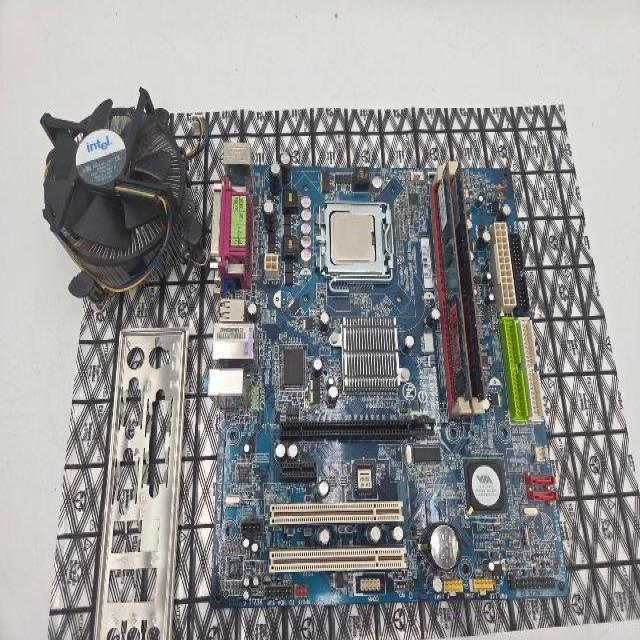CPU: (329, 210, 377, 266)
CPU_Fan: (39, 86, 208, 303)
RAM: (435, 163, 473, 404)
